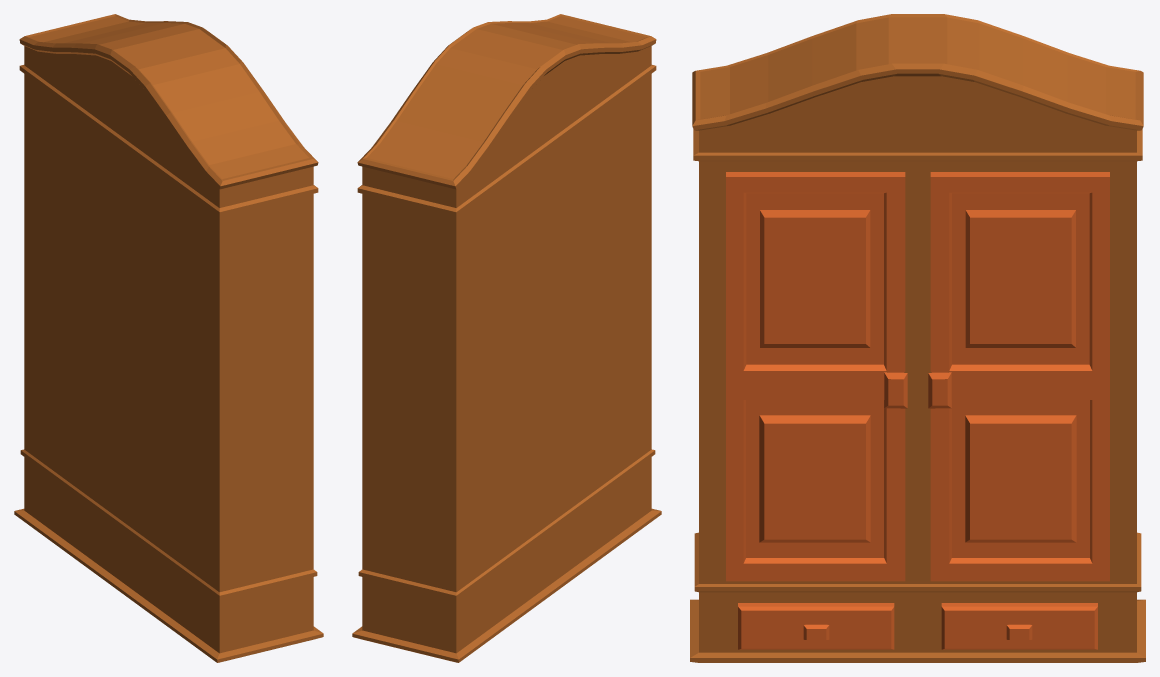
Rendered from wardrobe.fbx.
3 renders of one model, left to right at view 1: azimuth 30°, elevation 25°; view 2: azimuth 150°, elevation 25°; view 3: azimuth 270°, elevation 25°, orthographic. The views are drawn at different scales.
Visible parts, largest first — view 1: wardrobe; view 2: wardrobe; view 3: wardrobe.
Boxes of the visible parts, left/top/right/bottom form: wardrobe: left=14, top=14, right=323, bottom=662; wardrobe: left=352, top=14, right=661, bottom=662; wardrobe: left=690, top=14, right=1145, bottom=662.
Bounding box in the file's own units: 254 × 1083 × 748.
